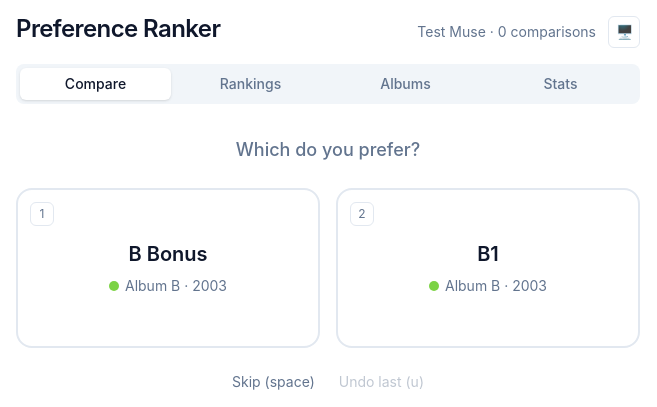
it: App › reset clears comparisons after confirmation
Click the button with aria-label "choose " at (168, 268), box 16,188 -> 320,348
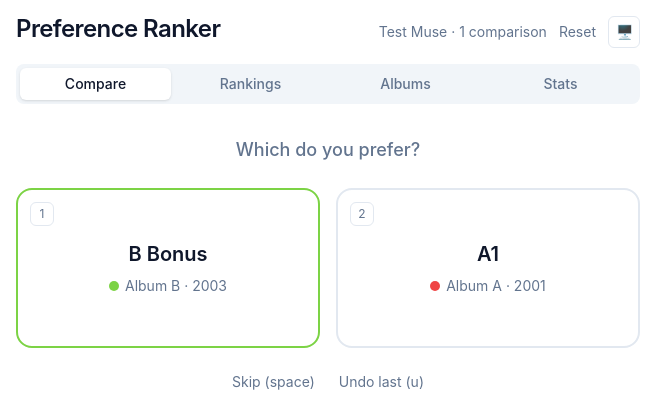
Click the button "Reset" at (577, 32), box 559,22 -> 596,42
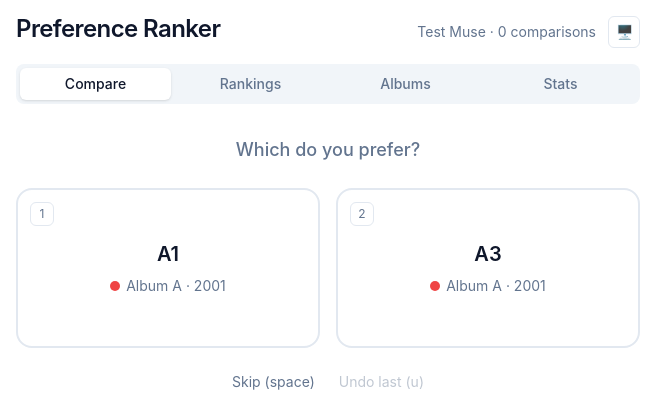
Expected: the text "Test Muse · 0 comparisons" is shown, 417,22 -> 596,42
